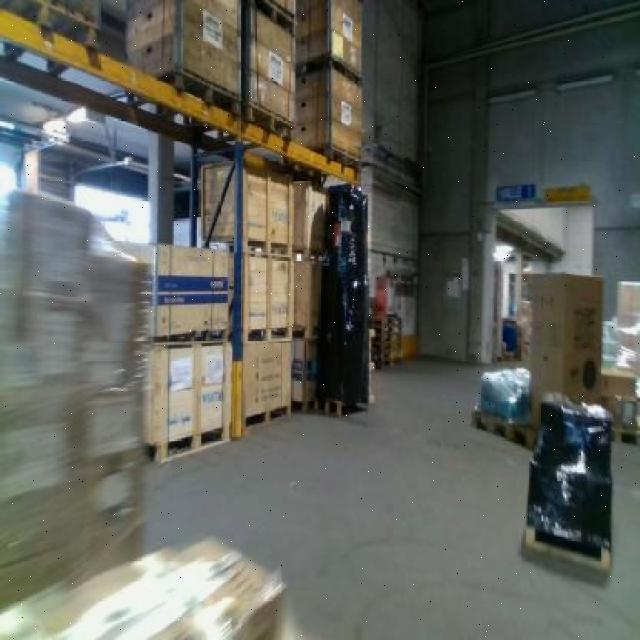pallet: (160, 62, 243, 124), (142, 419, 235, 472), (234, 103, 300, 145), (232, 233, 300, 265), (236, 401, 296, 437), (237, 324, 304, 348)
